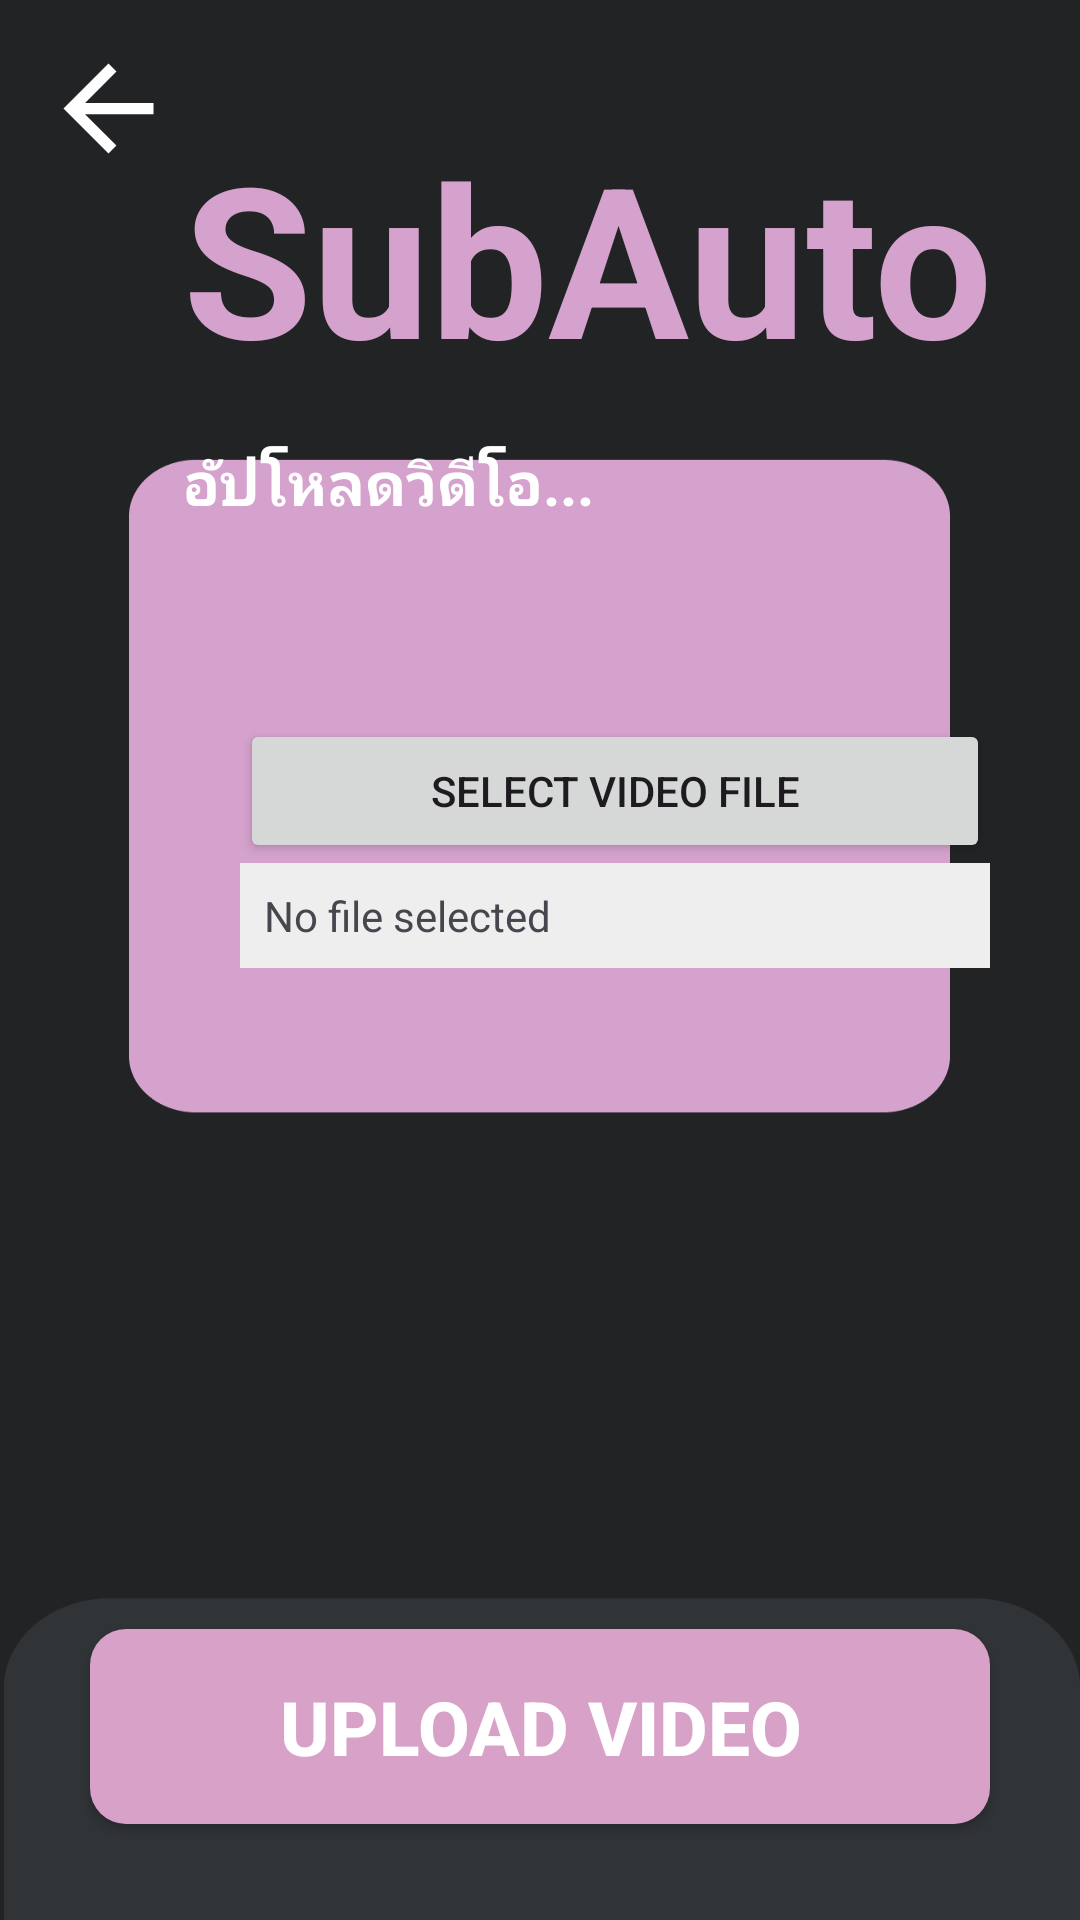

Locate icon controls on the screen. Image size 1080*1920, boxes as {"x1": x1, "y1": y1, "x2": x2, "y2": y2}.
arrow back: {"x1": 63, "y1": 63, "x2": 154, "y2": 154}
